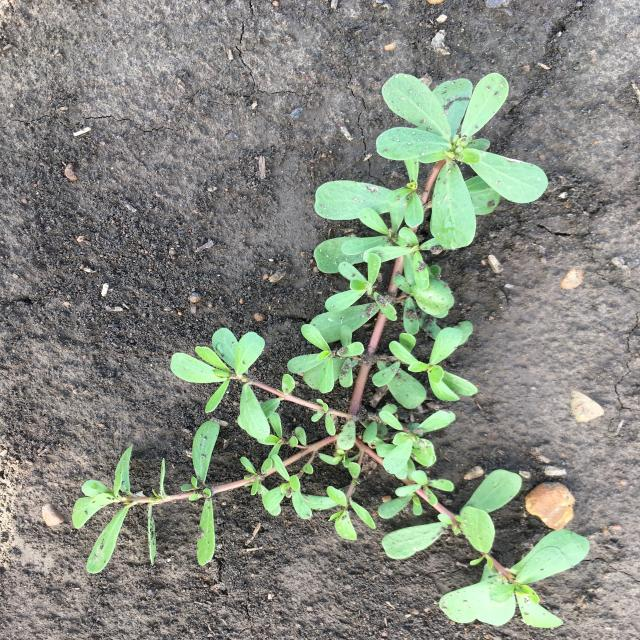Purslane: (72, 73, 590, 628)
